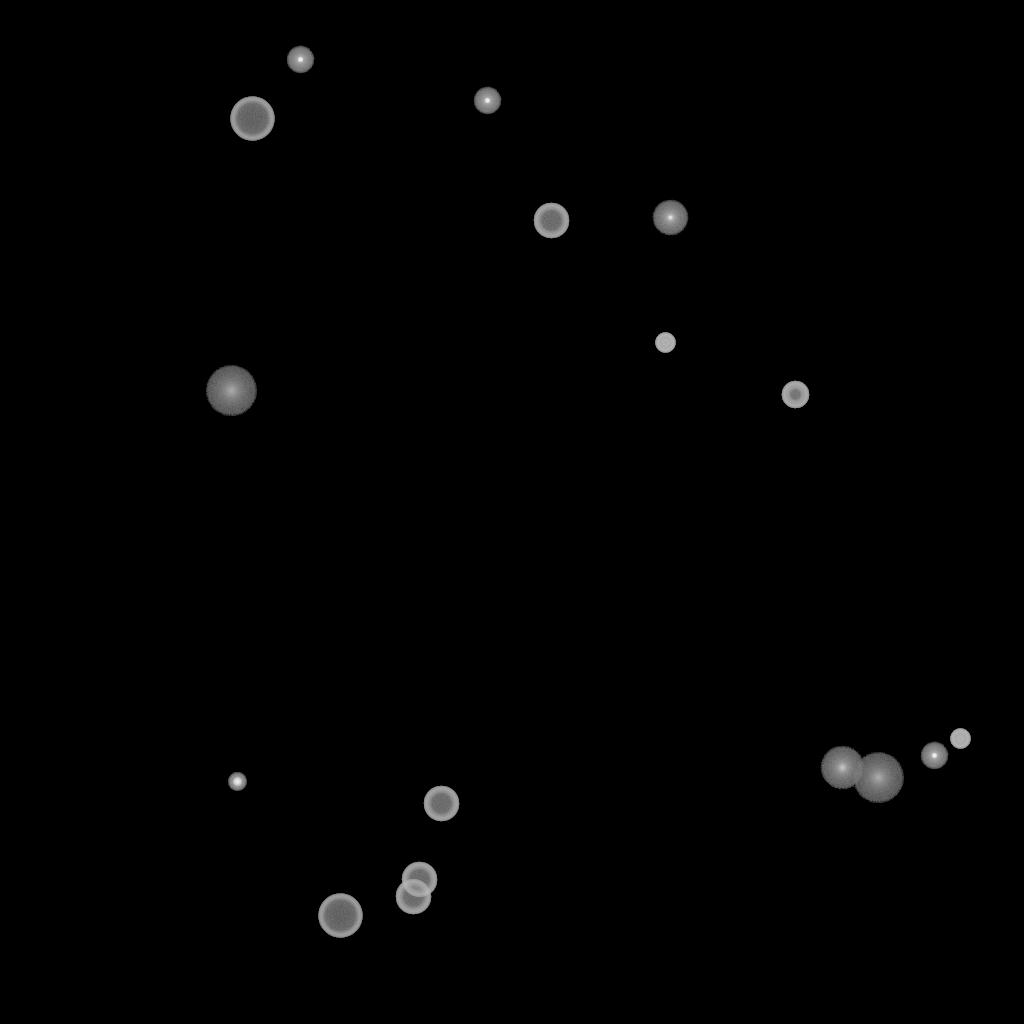depth:-10: (920, 742, 948, 770), (286, 46, 314, 74), (473, 87, 501, 115)
depth:-20: (228, 773, 246, 791)
depth:-40: (950, 729, 970, 749), (655, 333, 675, 353)
depth:-50: (781, 381, 809, 409)
depth:-60: (533, 203, 569, 239), (423, 786, 459, 822), (401, 862, 437, 898), (395, 879, 431, 915)
depth:-70: (318, 894, 362, 938), (230, 97, 274, 141)
depth:0: (652, 200, 688, 236)
depth:10: (820, 746, 864, 790)
depth:20: (205, 366, 257, 416), (852, 753, 904, 803)
